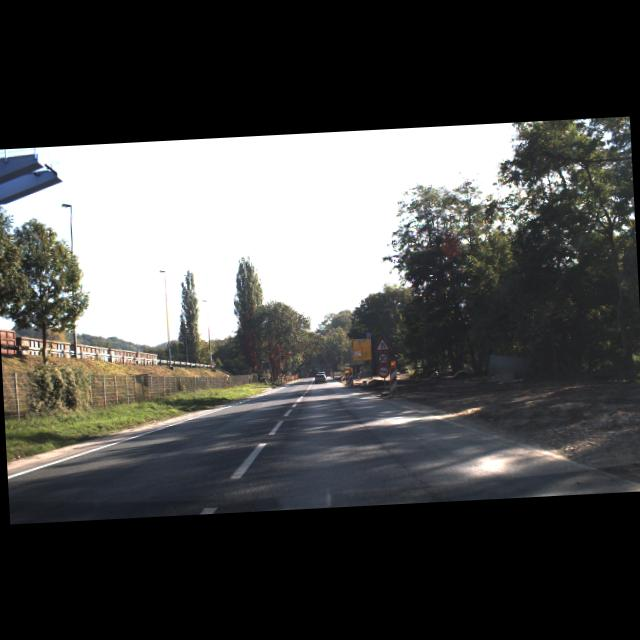danger: (372, 333, 392, 351)
prohibitory: (376, 351, 390, 365), (376, 364, 389, 378)
